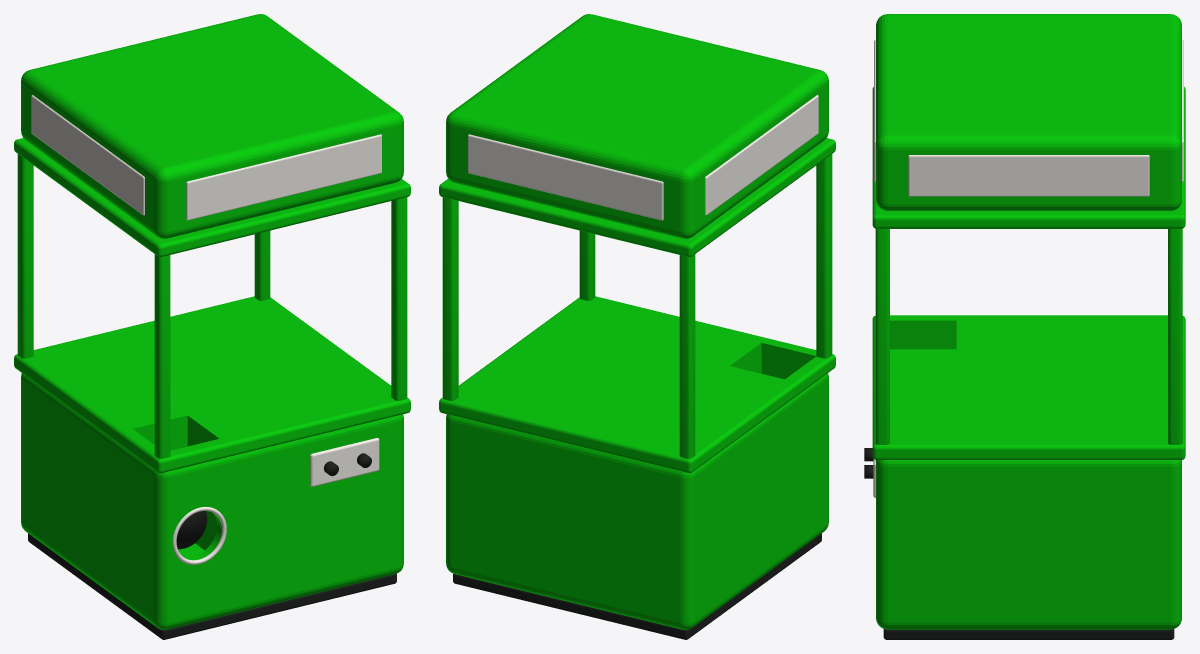
File: cabinet.glb
3 views of the same model, side by side, from view 1: azimuth 30°, elevation 25°; view 2: azimuth 150°, elevation 25°; view 3: azimuth 270°, elevation 25° (orthographic). The views are drawn at different scales.
Visible parts, largest first — view 1: Shell, Trim, Detail; view 2: Shell, Trim, Detail; view 3: Shell, Trim, Detail.
Part boxes in pixels (left/top/right/bottom): Shell: left=14, top=14, right=410, bottom=629; Trim: left=31, top=95, right=381, bottom=564; Detail: left=28, top=453, right=396, bottom=639; Shell: left=439, top=14, right=835, bottom=629; Trim: left=468, top=95, right=818, bottom=220; Detail: left=453, top=533, right=821, bottom=639; Shell: left=872, top=14, right=1185, bottom=629; Trim: left=873, top=39, right=1183, bottom=497; Detail: left=864, top=448, right=1174, bottom=639.
Bounding box in the file's own units: 3.68 × 6.55 × 3.78.
